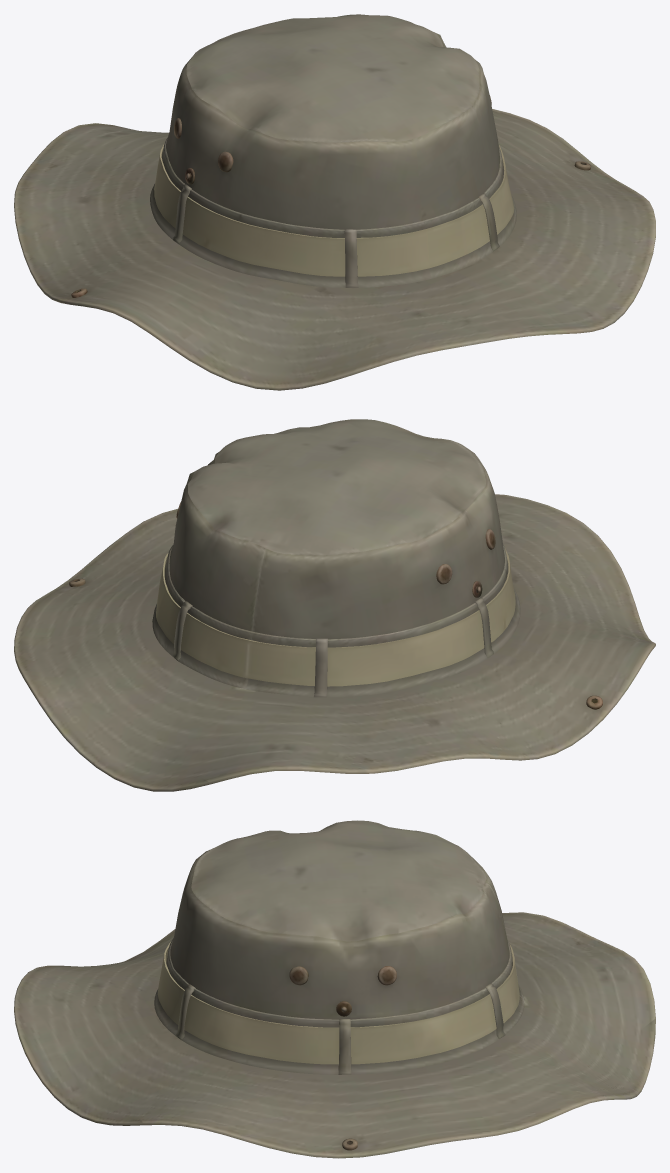
Rendered from fishermans_hat.glb.
3 views of the same model, one above another, from view 1: azimuth 30°, elevation 25°; view 2: azimuth 150°, elevation 25°; view 3: azimuth 270°, elevation 25° (orthographic). The views are drawn at different scales.
Parts seen in each view (by area): view 1: fishermans_hat; view 2: fishermans_hat; view 3: fishermans_hat.
Boxes of the visible parts, x1,y1,x2,y2 form: fishermans_hat: (14,14,655,390); fishermans_hat: (14,419,655,791); fishermans_hat: (14,820,655,1158).
Size of the model in its own units: 0.3236 by 0.124 by 0.35.
1 material, 1 textured.
